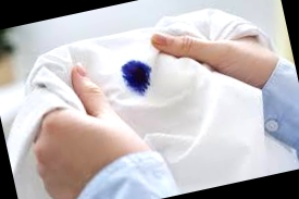ink: (121, 58, 154, 95)
